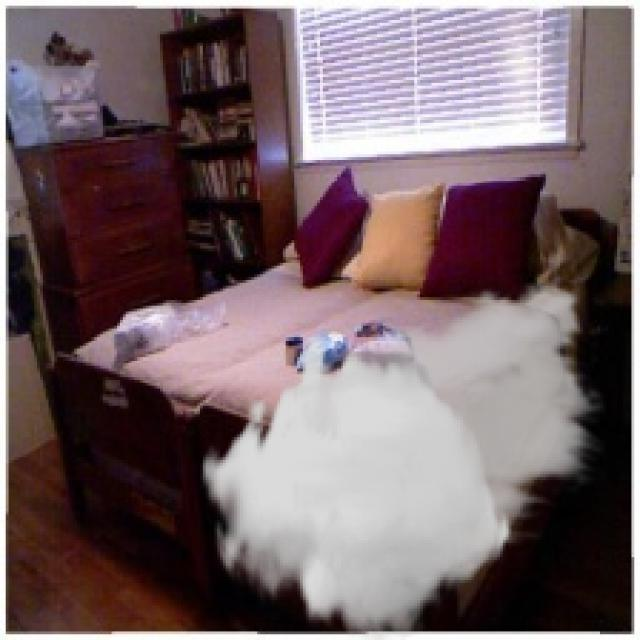Smoke: (200, 266, 609, 638)
